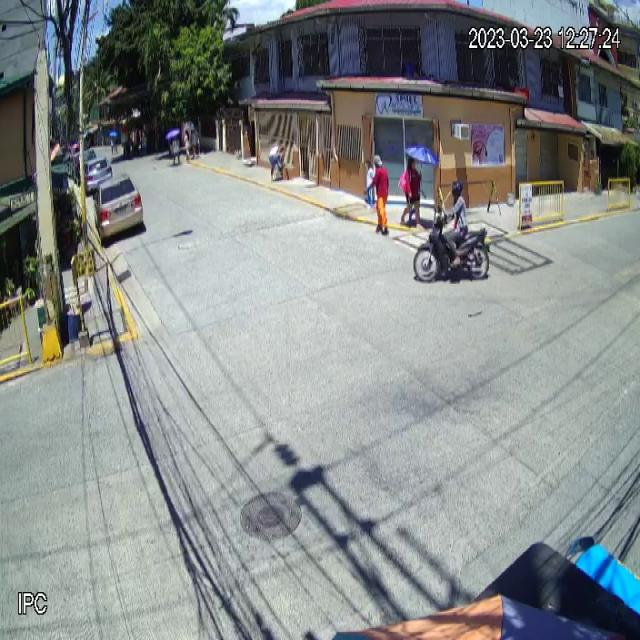Motorcycle: (413, 209, 491, 287)
